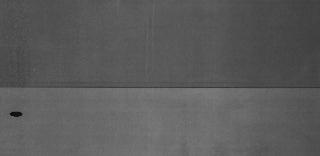punching hole: (8, 109, 26, 119)
welding line: (1, 83, 320, 95)
